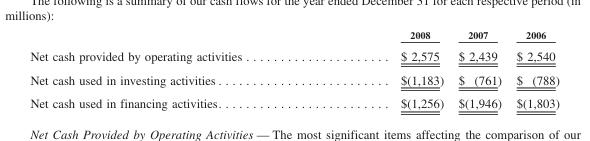table: (29, 28, 558, 110)
table column: (29, 28, 320, 110), (320, 28, 450, 110), (450, 28, 508, 110), (508, 28, 558, 110)
table column header: (29, 28, 558, 44)
table row: (29, 67, 558, 91), (29, 44, 558, 67), (29, 91, 558, 110), (29, 28, 558, 44)
